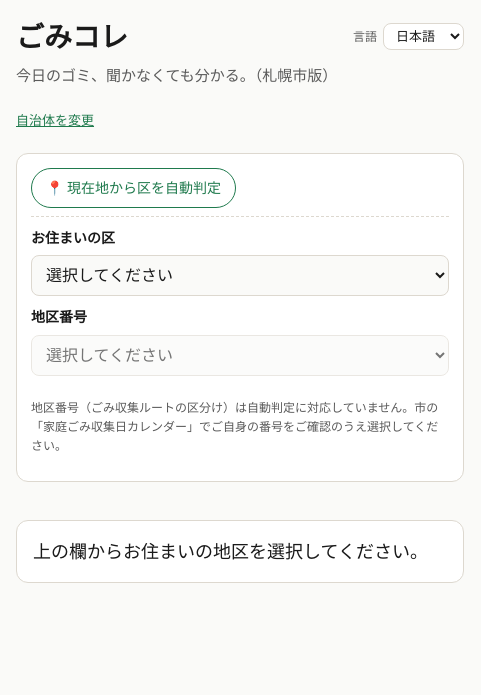
Scenario: App › looks up an item in the full 50-on sorting dictionary and reads out the answer, even for items not covered by categories.json's own keyword list
Select "中央区" in the dropdown labelled "お住まいの区" at (240, 276), box [31,255,449,296]
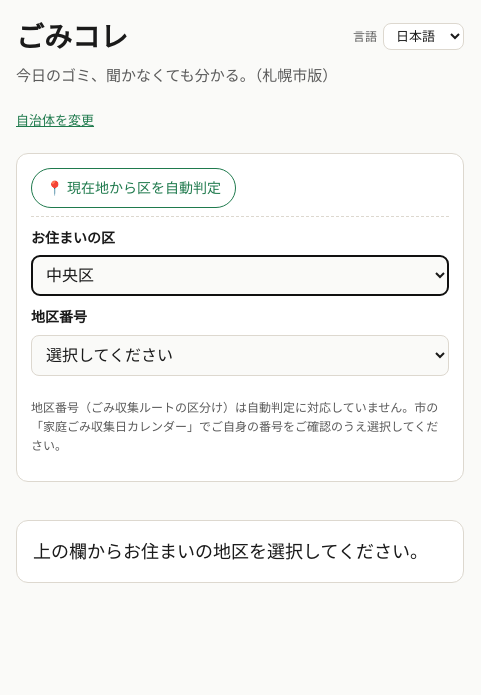
Select "第1地区" in the dropdown labelled "地区番号" at (240, 355), box [31,335,449,376]
(page scrolled)
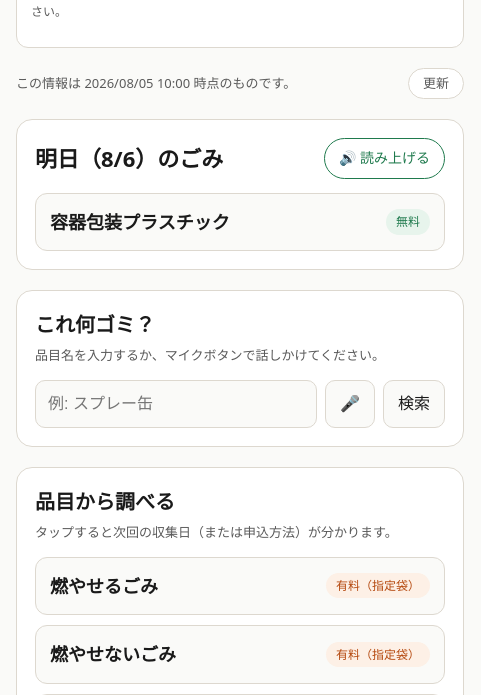
Type "ピアノ" into the field with placeholder "例: スプレー缶" at (176, 404), box [35,380,317,428]
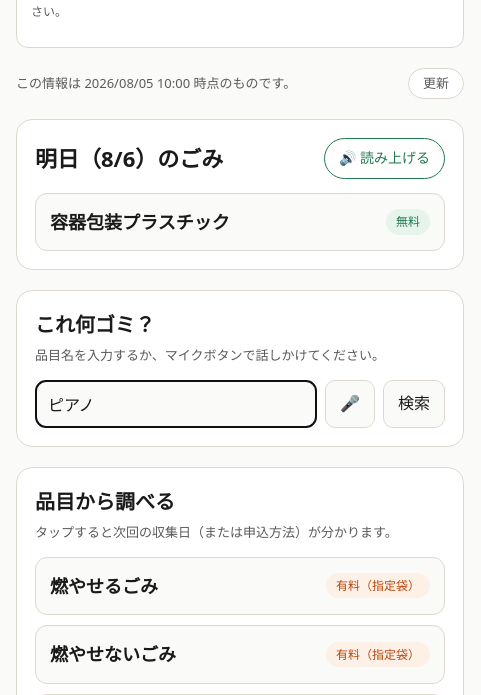
Click the button "検索" at (414, 404), box [383,380,445,428]
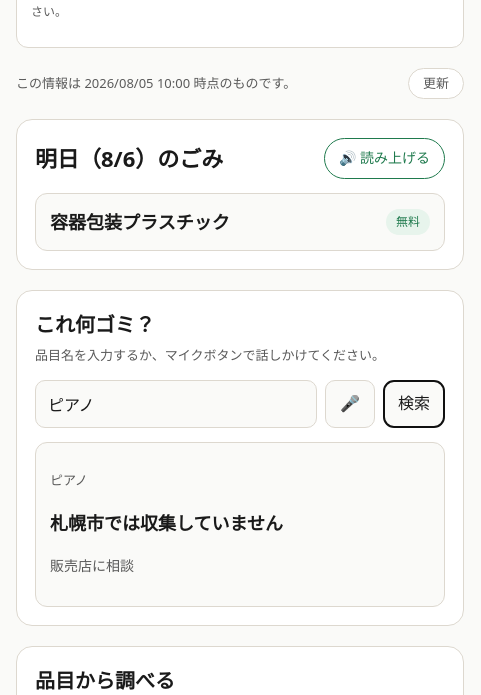
Check: the text "札幌市では収集していません" is shown, box [50,510,283,534]
Check: the text "販売店に相談" is shown, box [50,556,134,575]
